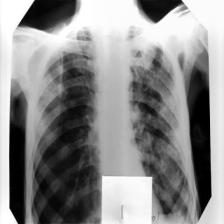tuberculosis: (31, 24, 195, 224)
